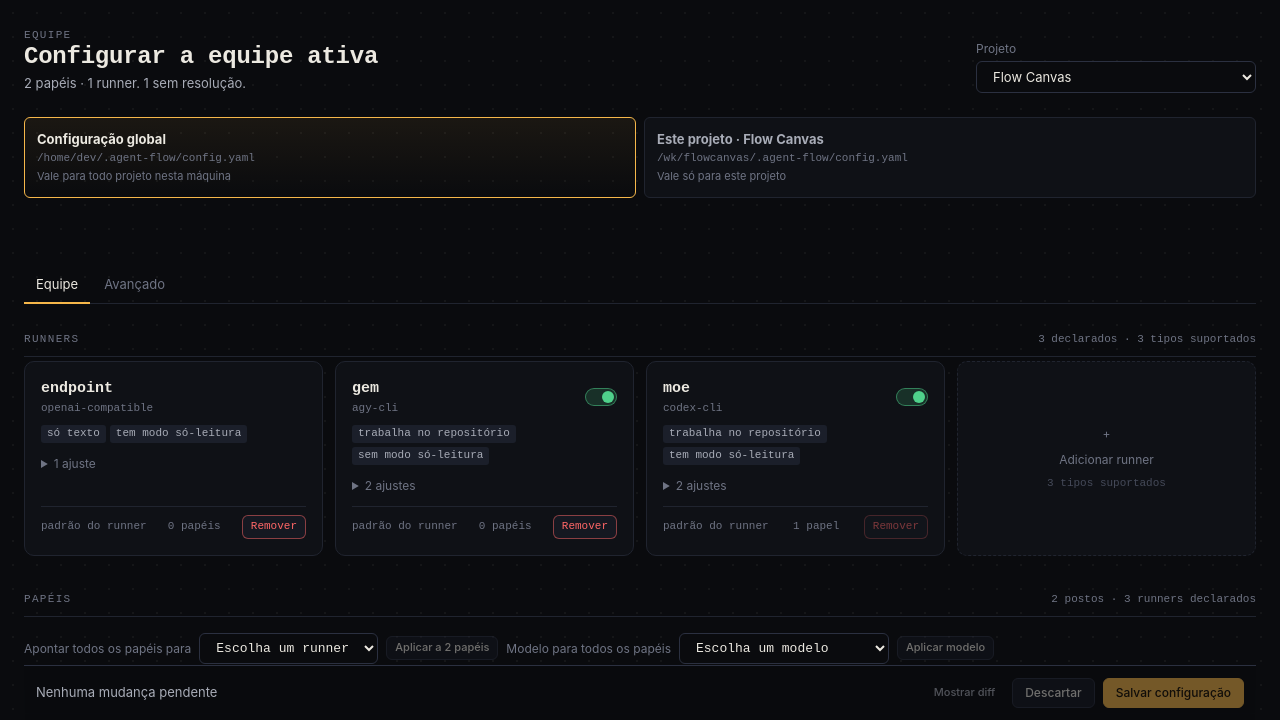
Test case: CrewPage configuration workflow › names the read-only refusal as a read-only refusal
Select "gem" in the dropdown labelled "Apontar todos os papéis para": (289, 648) [199, 633, 378, 664]
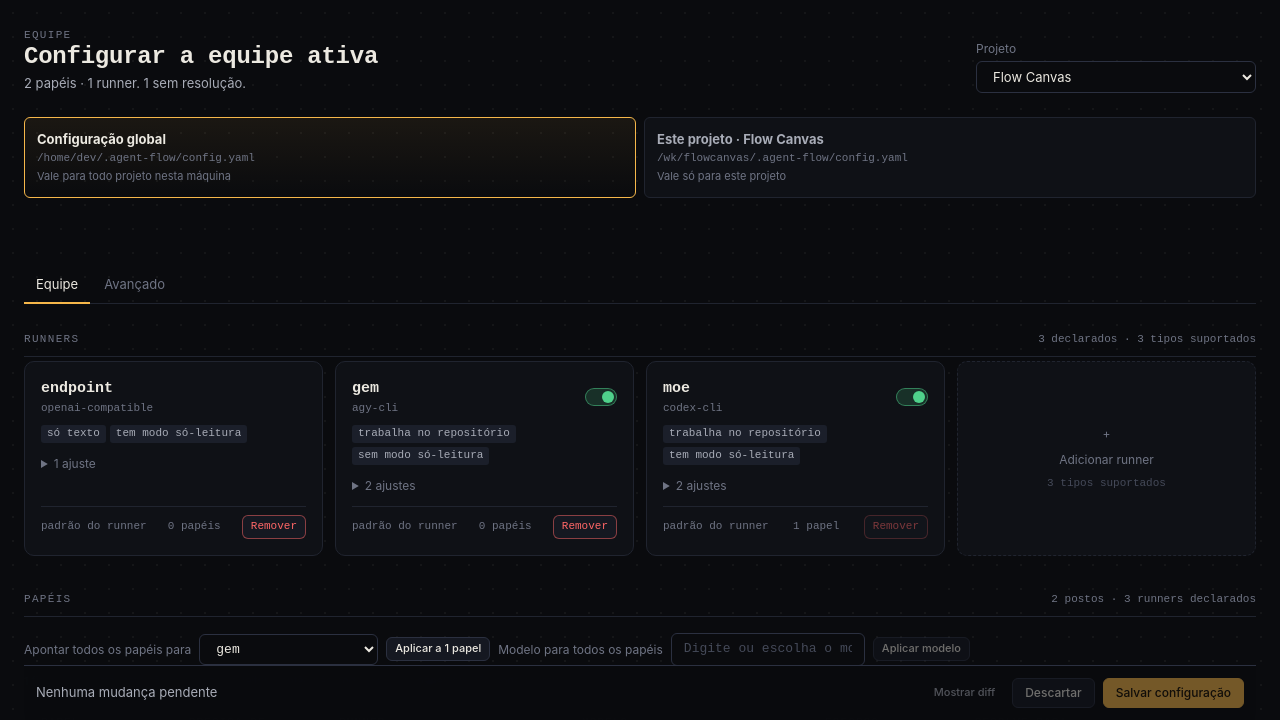
Expected: the button "Aplicar a 1 papel" is enabled, [386, 637, 490, 661]
